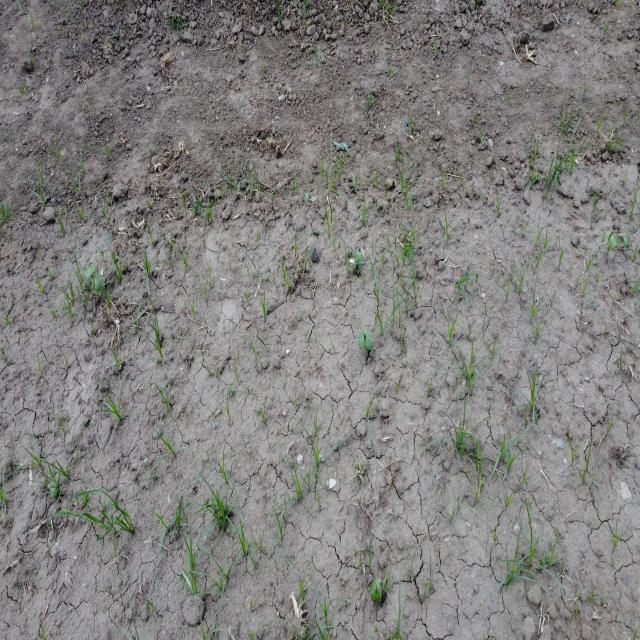seedling_s3: (364, 330, 373, 351), (84, 264, 97, 278), (370, 584, 380, 601), (375, 578, 382, 599), (608, 234, 618, 248), (602, 231, 614, 242), (93, 275, 101, 291), (387, 571, 392, 592), (47, 479, 57, 489), (623, 234, 630, 248), (359, 330, 364, 349), (50, 488, 58, 498), (358, 251, 363, 262), (354, 263, 360, 272), (382, 577, 387, 587), (355, 253, 359, 263), (618, 233, 628, 236)
